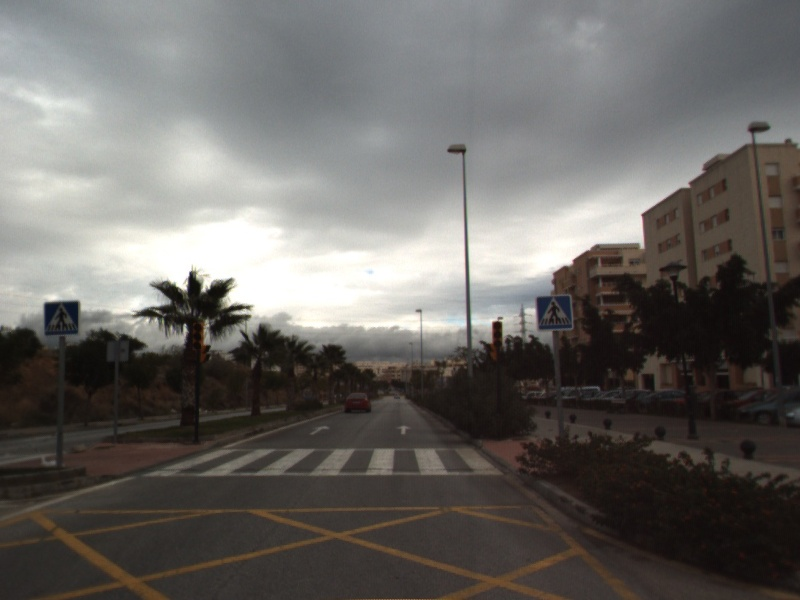STRAIGHT: (308, 423, 332, 437), (395, 423, 413, 436)
